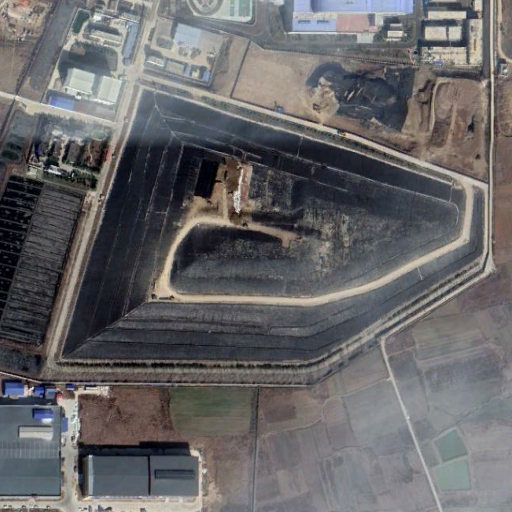lf: (54, 76, 492, 383)
